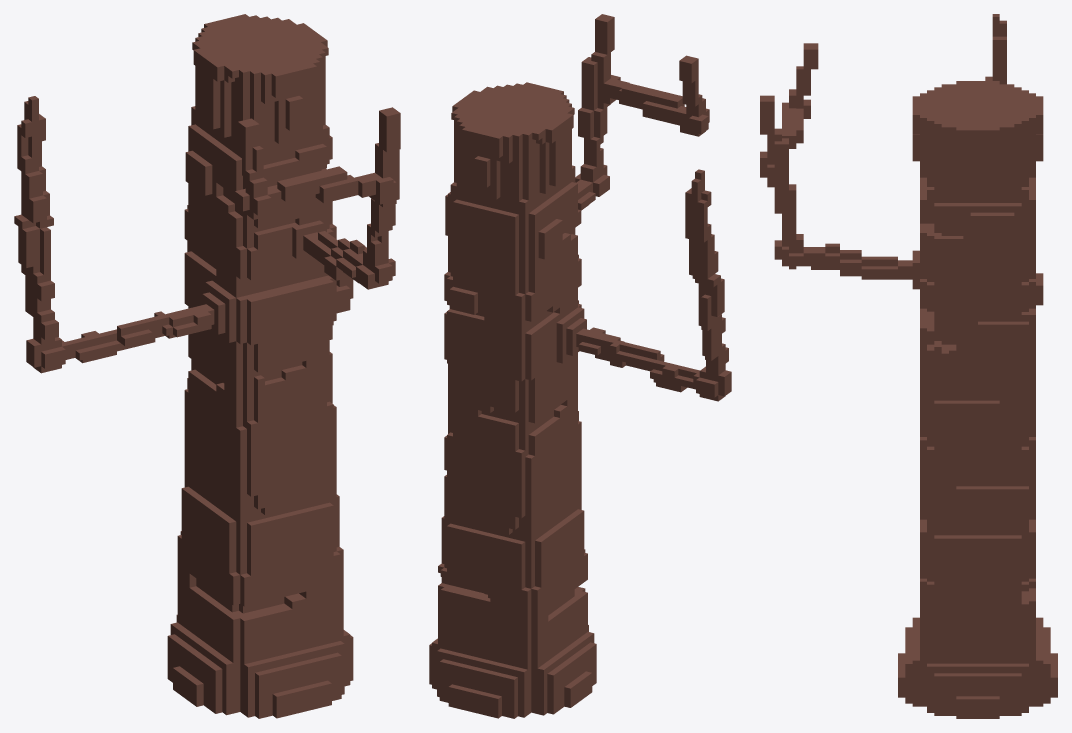
Rendered from trunk_1.glb.
The picture shows the model from 3 angles, left to right: view 1: azimuth 30°, elevation 25°; view 2: azimuth 150°, elevation 25°; view 3: azimuth 270°, elevation 25°; orthographic projection. The views are drawn at different scales.
Parts seen in each view (by area): view 1: trunk_1; view 2: trunk_1; view 3: trunk_1.
Boxes of the visible parts, box(x1,y1,x2,y2) form: trunk_1: box(14, 14, 400, 718); trunk_1: box(429, 14, 731, 718); trunk_1: box(760, 14, 1057, 718).
Bounding box in the file's own units: 4.5 × 9 × 4.1.
1 material, 1 textured.
